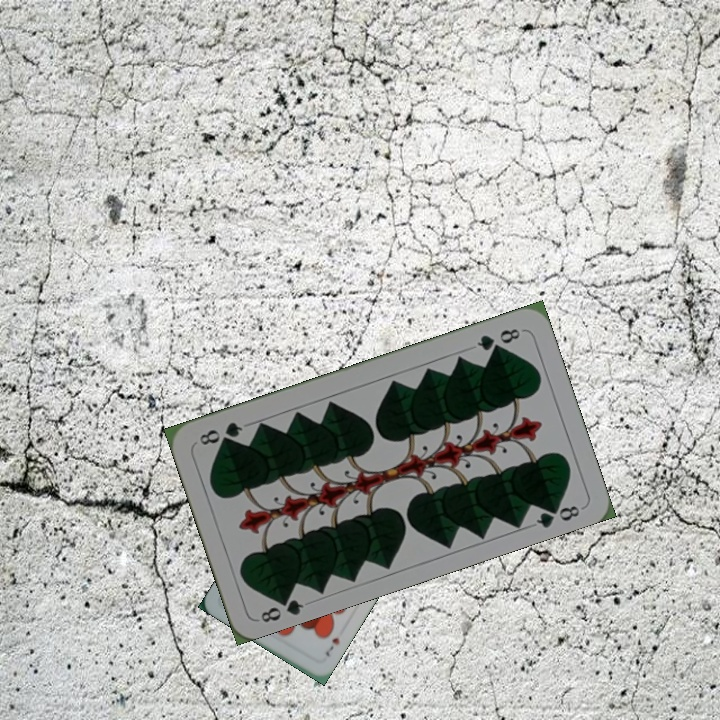G8: (256, 589, 306, 626), (472, 324, 523, 354)
H7: (321, 633, 342, 659)
